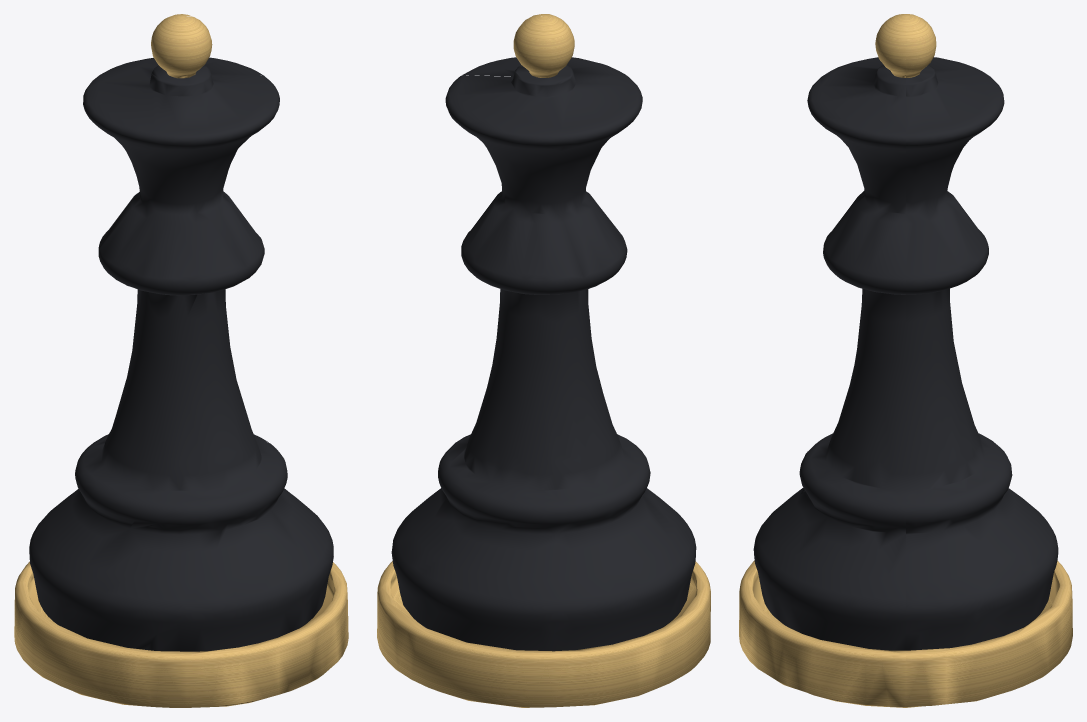
Rendered from queen-black.glb.
The picture shows the model from 3 angles, left to right: view 1: azimuth 30°, elevation 25°; view 2: azimuth 150°, elevation 25°; view 3: azimuth 270°, elevation 25°; orthographic projection.
Visible parts, largest first — view 1: Aurum Noir – Queen; view 2: Aurum Noir – Queen; view 3: Aurum Noir – Queen.
Part boxes in pixels (x1,y1,x2,y2): Aurum Noir – Queen: (14, 14, 348, 707); Aurum Noir – Queen: (377, 14, 710, 707); Aurum Noir – Queen: (739, 14, 1072, 707).
Bounding box in the file's own units: 0.7391 × 1.52 × 0.7397.
Materials: 2 (1 with a texture image).
